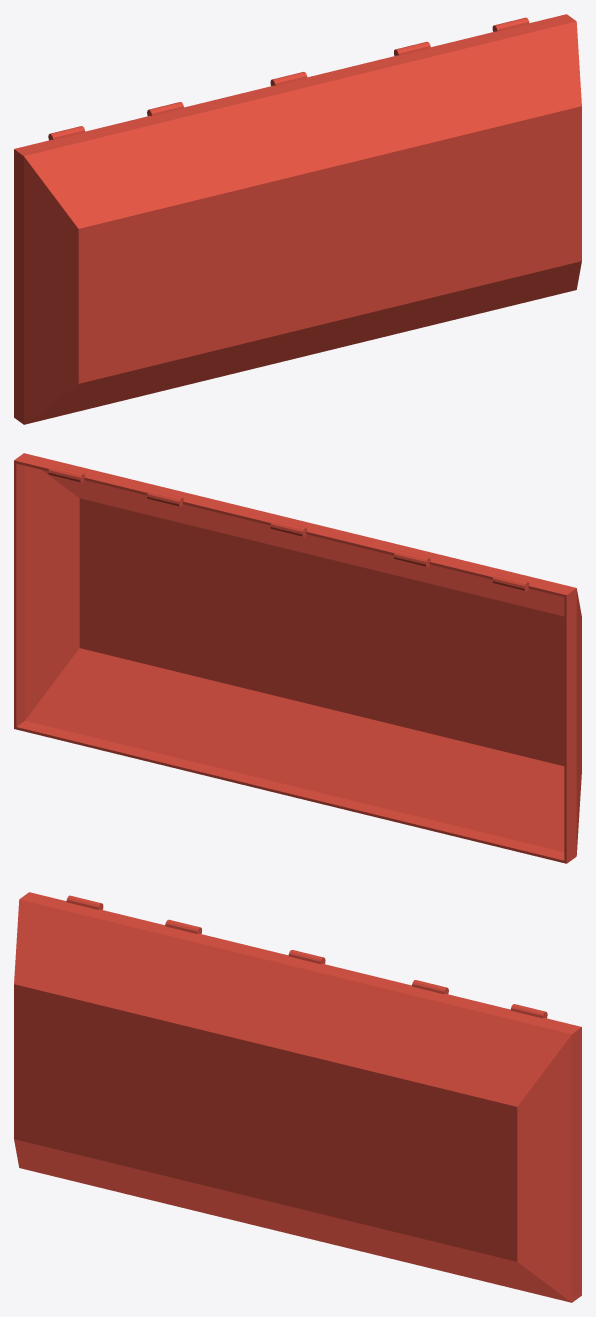
File: lid.glb
3 views of the same model, one above another, from view 1: azimuth 30°, elevation 25°; view 2: azimuth 150°, elevation 25°; view 3: azimuth 330°, elevation 25° (orthographic).
Parts seen in each view (by area): view 1: lid.001; view 2: lid.001; view 3: lid.001.
Boxes of the visible parts, x1,y1,x2,y2 form: lid.001: [14, 14, 581, 424]; lid.001: [14, 453, 581, 863]; lid.001: [14, 892, 581, 1302].
Size of the model in its own units: 0.448 by 0.2125 by 0.0615.
